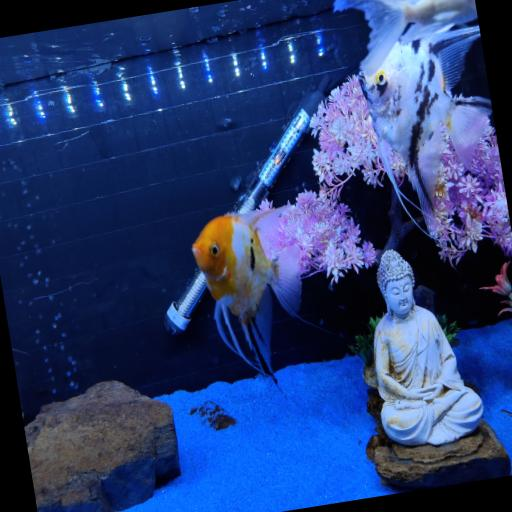Fish: (359, 27, 491, 237), (192, 208, 301, 383), (334, 0, 477, 75)
